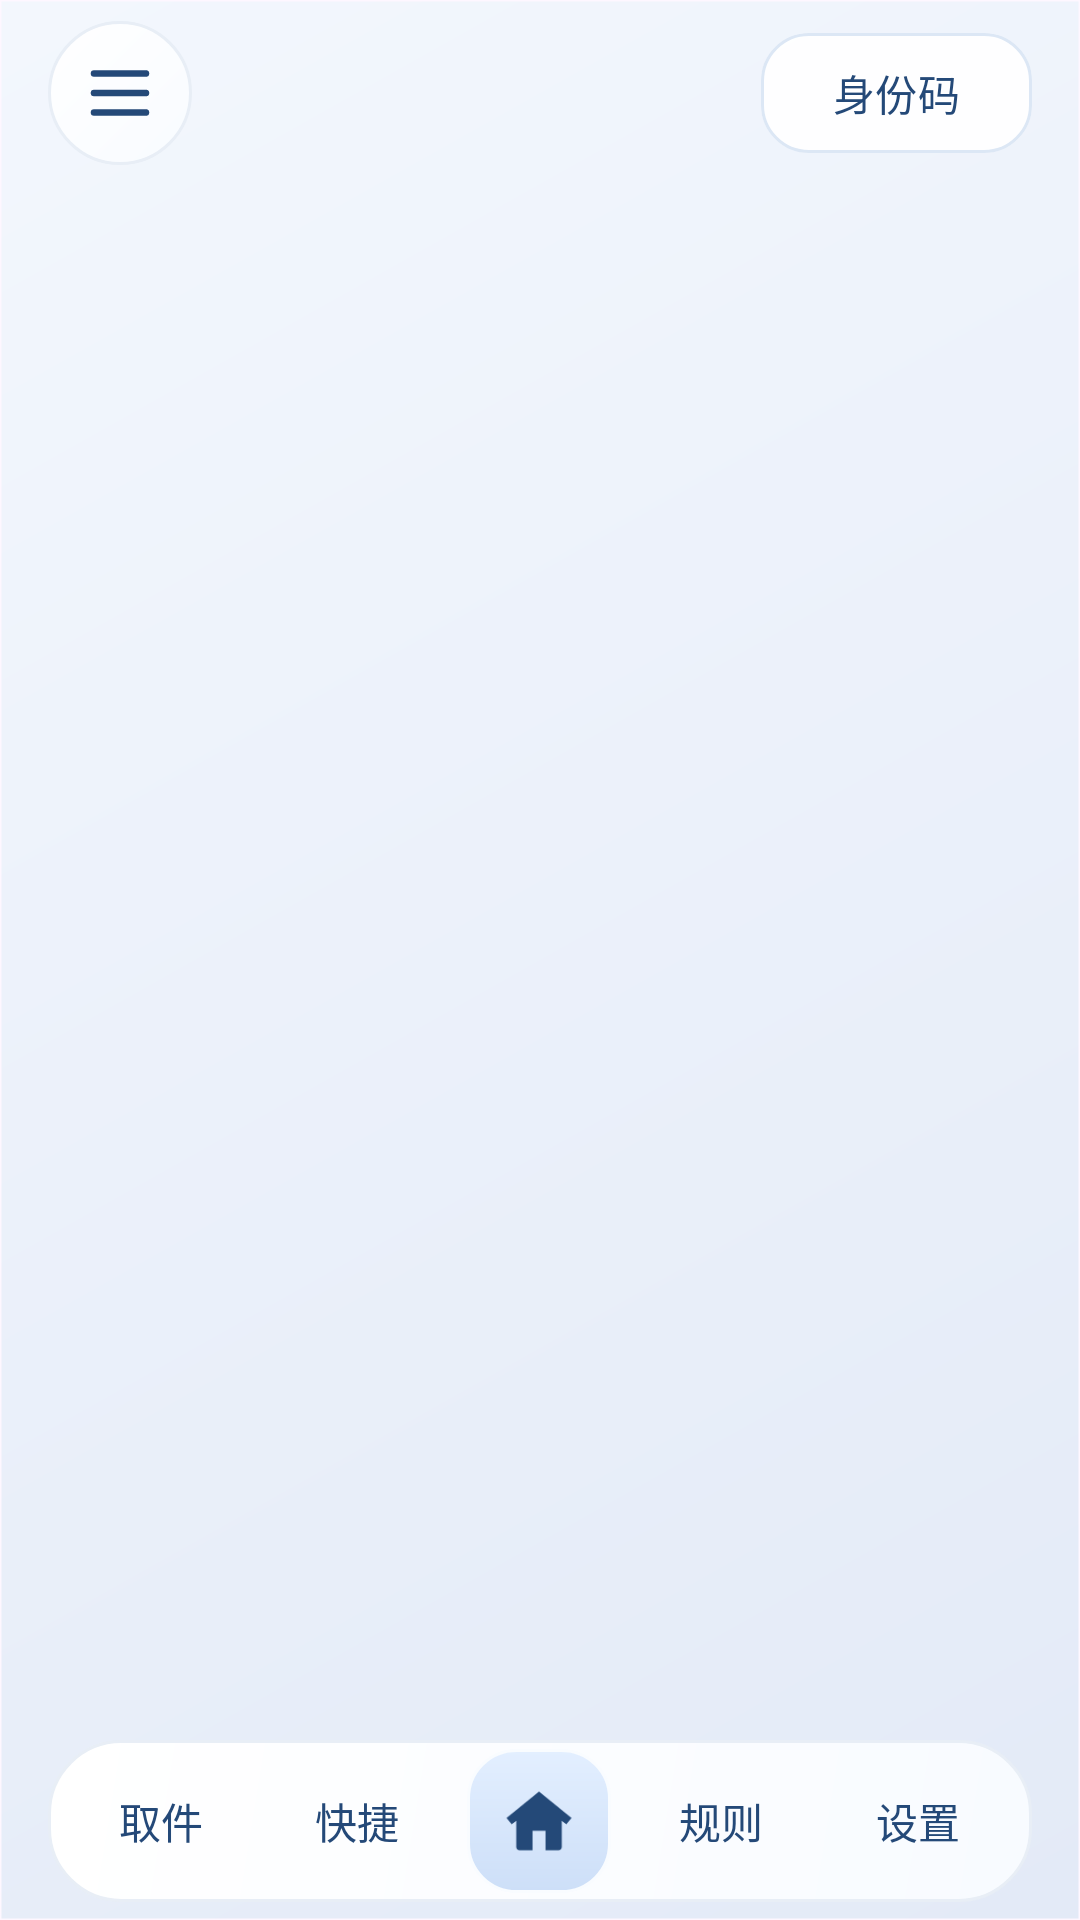

Icon bounding boxes for this 1080px x 1920px phone screenshot, format (x1, y1, x2, y2):
回到首页: (470, 1754, 608, 1890)
打开目录: (48, 21, 192, 165)
